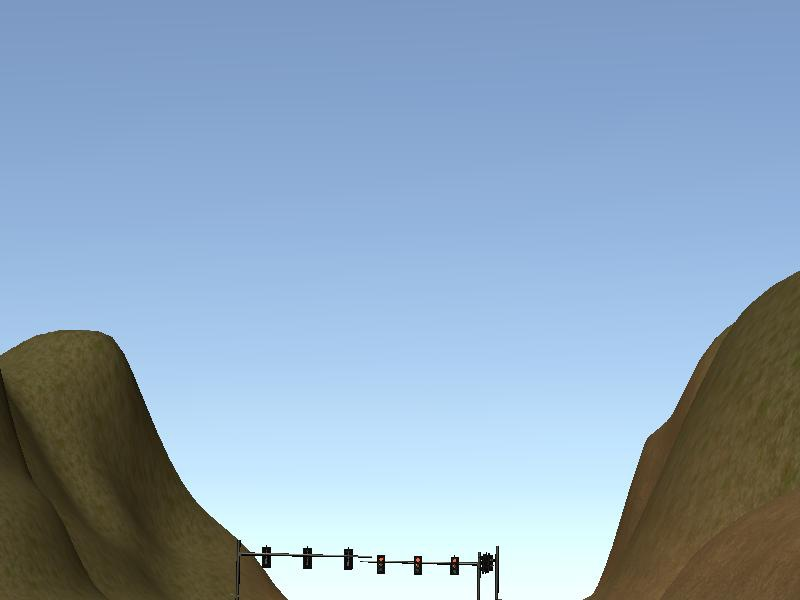Red: (374, 552, 388, 577), (448, 554, 459, 578), (411, 554, 422, 577)
